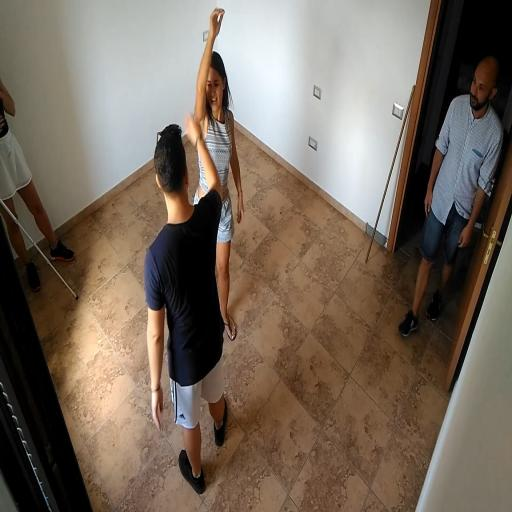nao-violencia: (124, 2, 269, 499)
